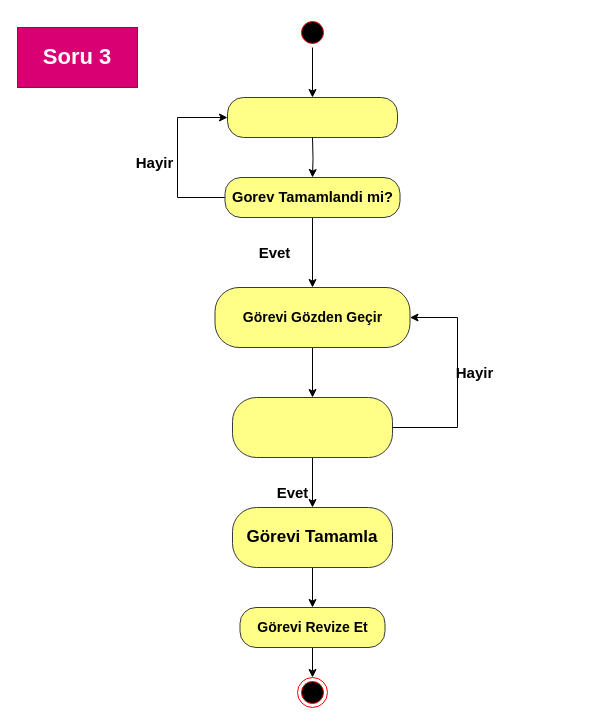
Image size: 600x725. Some labels were removed from this diagram. Each missing label, with the centre of its shape:
Gorev Atandi: (312,117)
Onaylandı mı?: (312,427)
